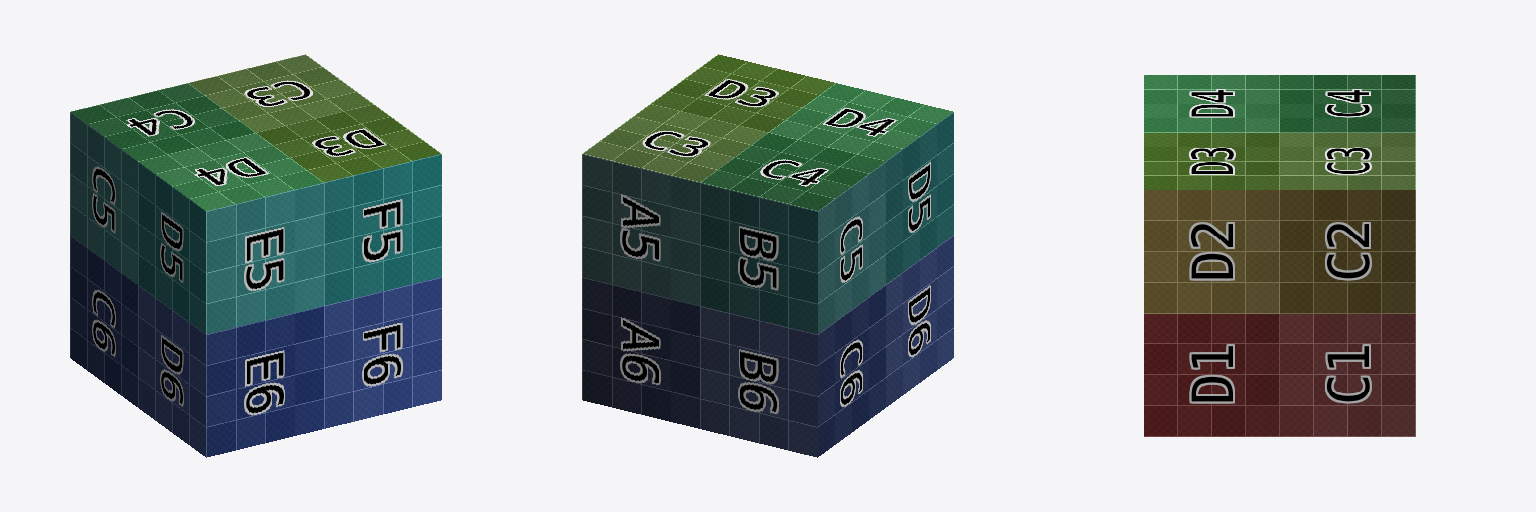
3 renders of one model, left to right at view 1: azimuth 30°, elevation 25°; view 2: azimuth 150°, elevation 25°; view 3: azimuth 270°, elevation 25°, orthographic.
Parts seen in each view (by area): view 1: Cube; view 2: Cube; view 3: Cube.
Boxes of the visible parts, x1,y1,x2,y2 form: Cube: [70, 54, 441, 457]; Cube: [582, 54, 953, 457]; Cube: [1144, 75, 1415, 436].
Size of the model in its own units: 2 by 2 by 2.
Materials: 1 (1 with a texture image).